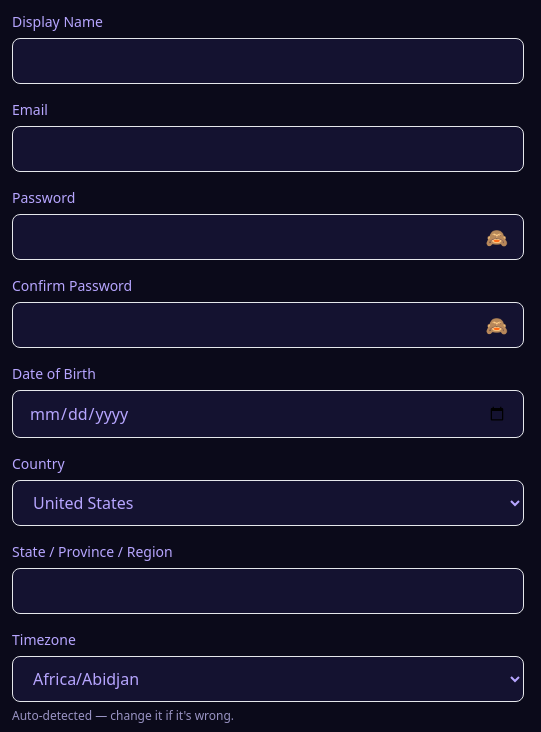
Scenario: RegisterForm — Create Account gating › marks the timezone as manually set after an override
Expected: the text "Auto-detected — change it if it's wrong." is shown, x1=12 y1=707 x2=234 y2=724
Select "Europe/Paris" in the dropdown labelled "Timezone" at (268, 679), box x1=12 y1=656 x2=524 y2=702
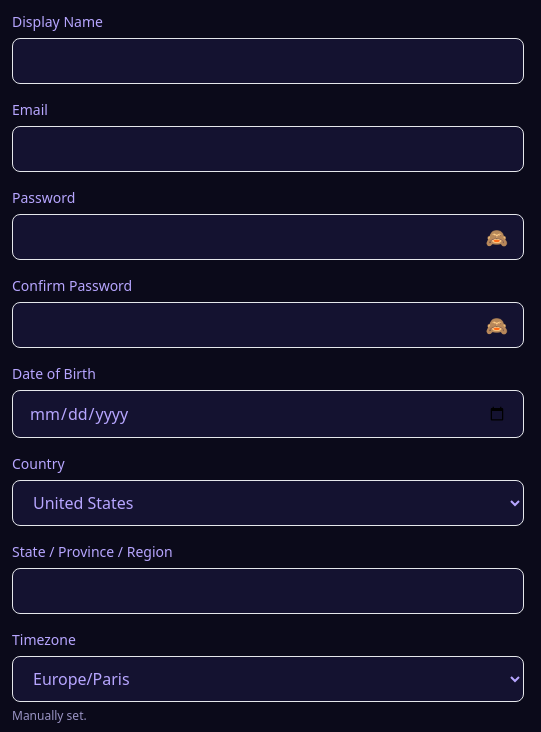
Now the text "Manually set." is shown, box x1=12 y1=707 x2=87 y2=724
